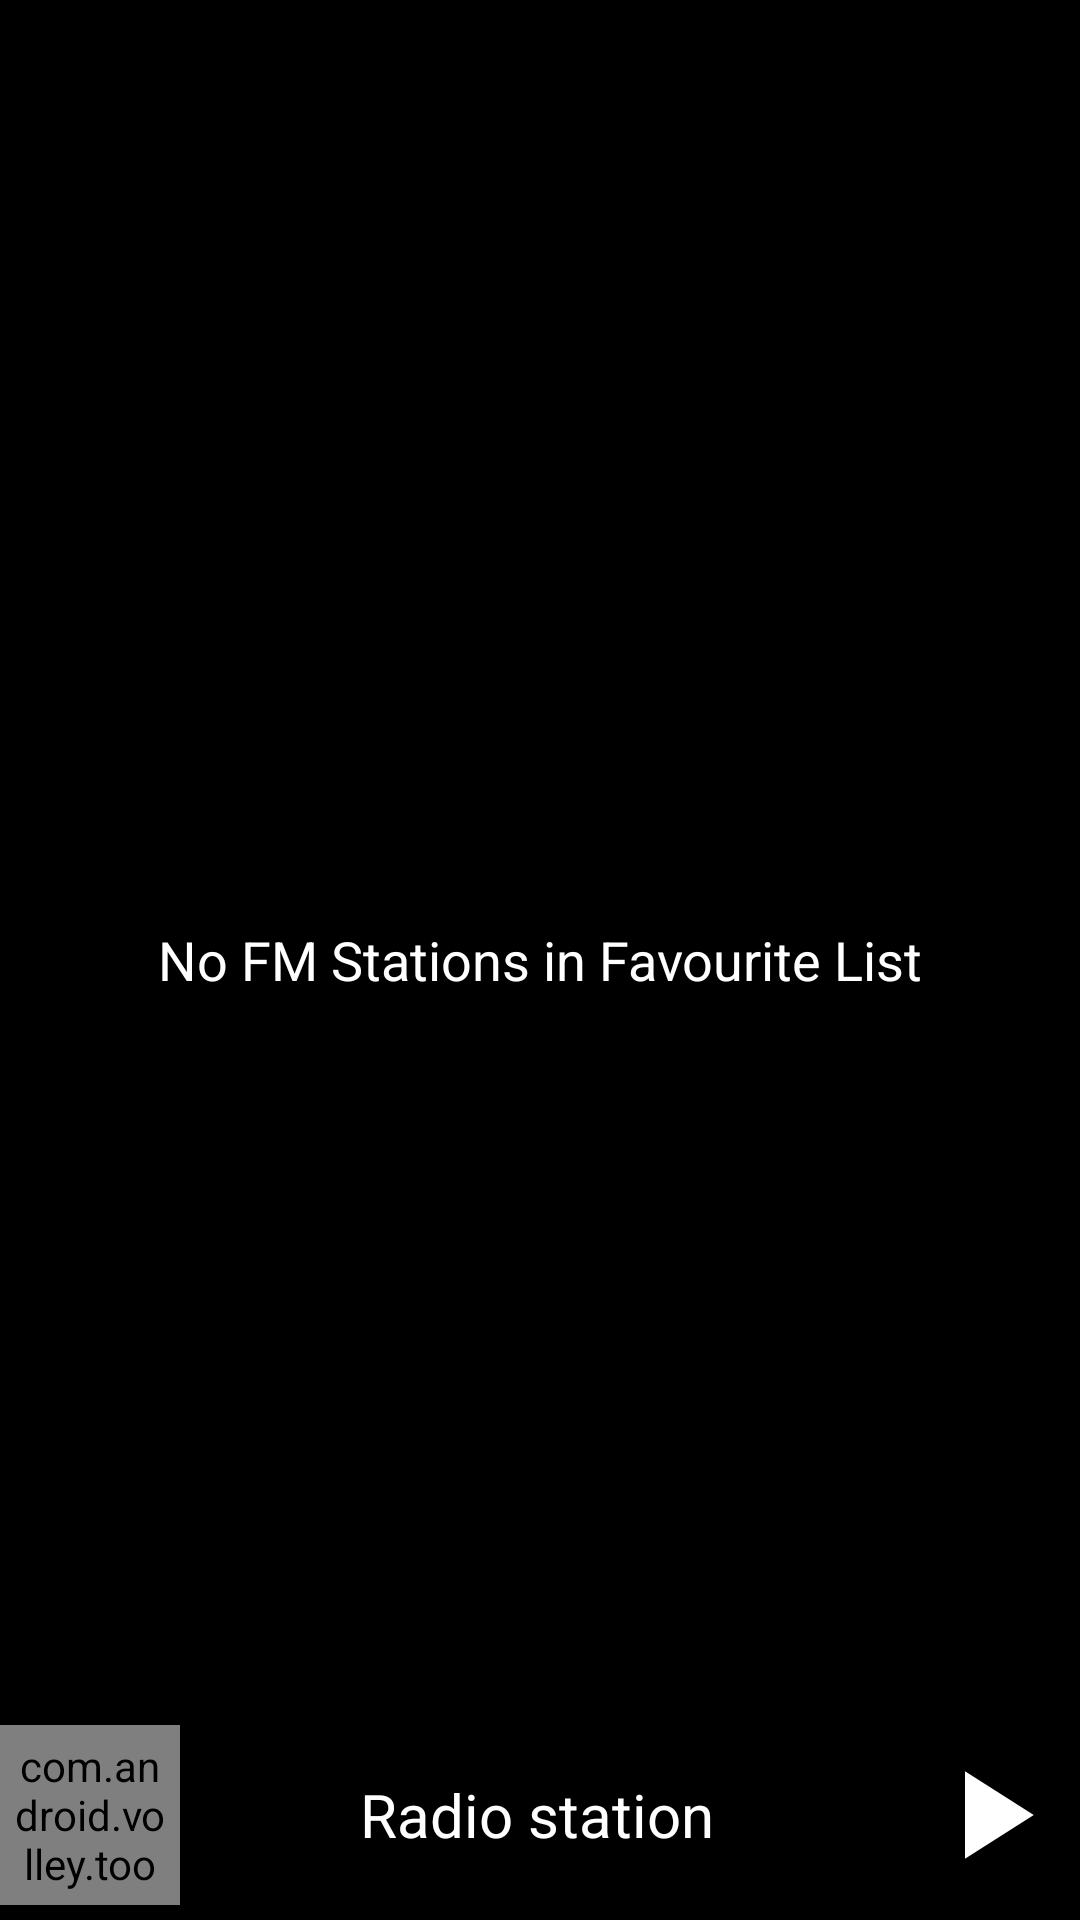

Icons on this 1080px×1920px Android screen, each with the point to tap as point (x, y):
play: point (999, 1815)
